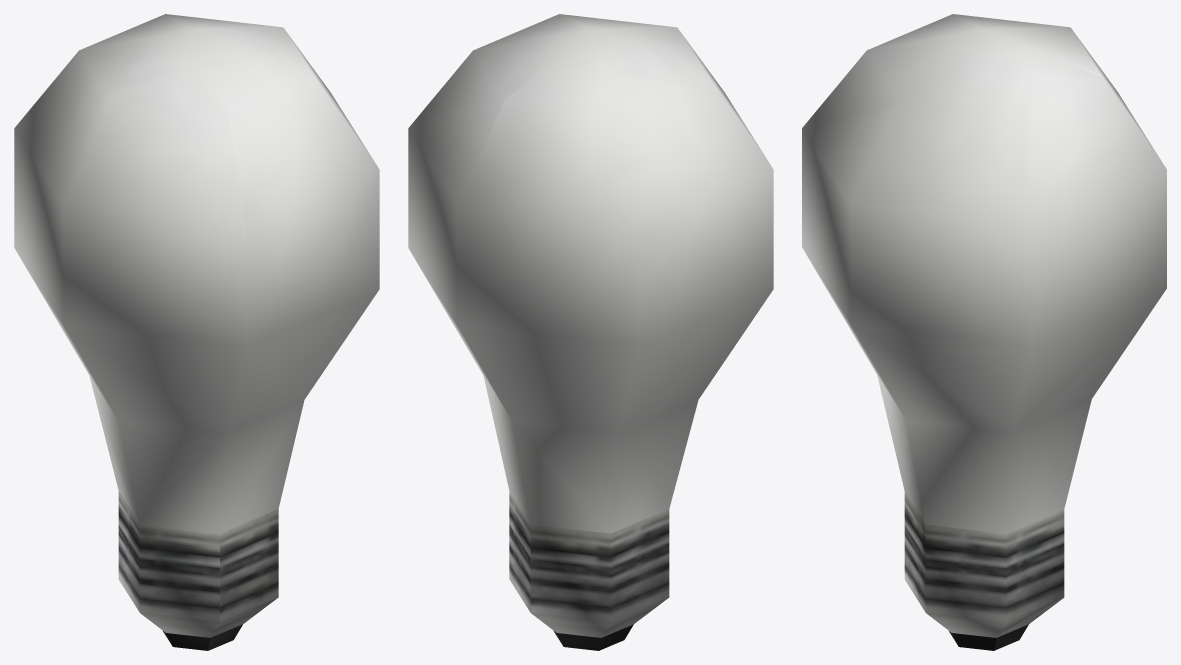
Rendered from light_bulb.obj.
3 renders of one model, left to right at view 1: azimuth 30°, elevation 25°; view 2: azimuth 150°, elevation 25°; view 3: azimuth 270°, elevation 25°, orthographic.
Bounding box in the file's own units: 1.94 × 3.56 × 1.94.
1 material, 1 textured.
